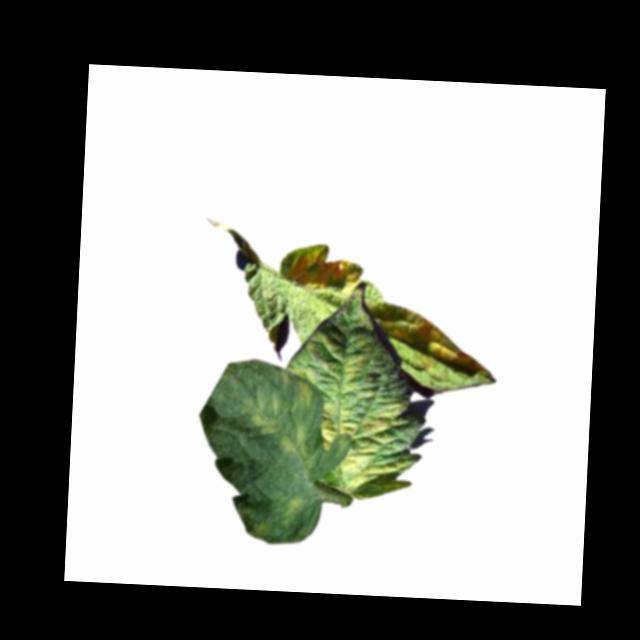Leaf_Mold: (319, 392, 412, 497), (373, 303, 504, 373), (242, 391, 317, 458), (288, 247, 366, 295), (250, 489, 306, 543), (291, 379, 317, 411)
